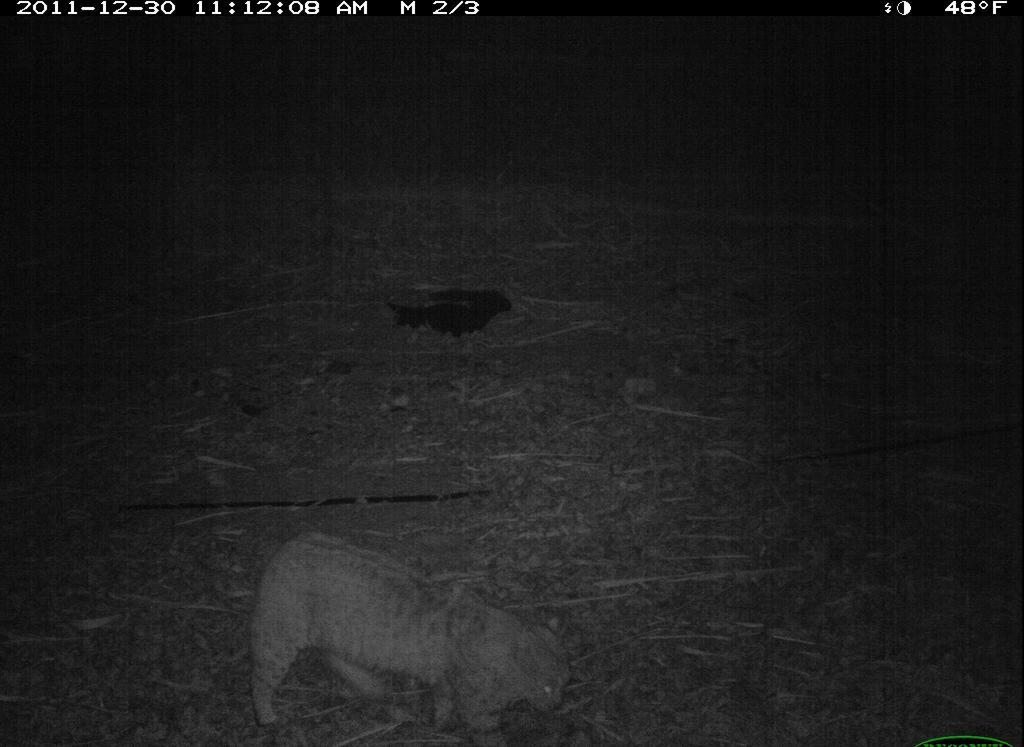bobcat: (227, 516, 589, 747)
